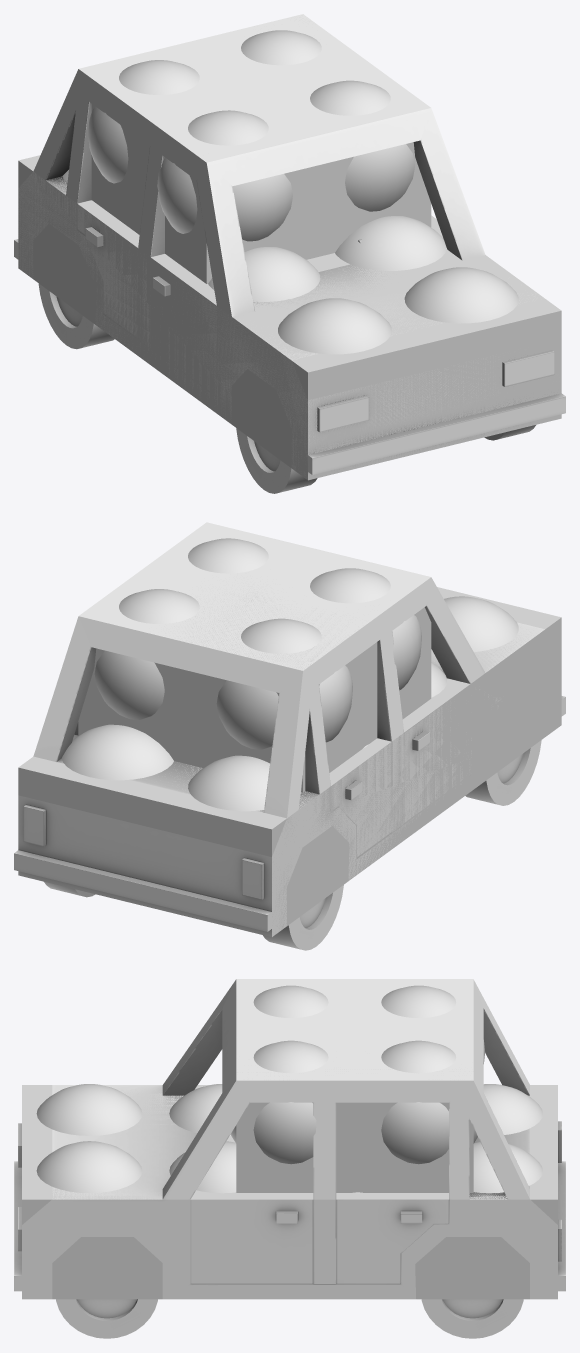
The model's file is car.glb.
3 renders of one model, top to bottom at view 1: azimuth 30°, elevation 25°; view 2: azimuth 150°, elevation 25°; view 3: azimuth 270°, elevation 25°, orthographic. The views are drawn at different scales.
Visible parts, largest first — view 1: body, Cube.006, Cube.002, Sphere.002, Sphere.001, Sphere, Sphere.003, Sphere.010, Sphere.007, door_4, Sphere.011, Sphere.004 (+3 smaller); view 2: body, Cube.006, Cube.002, Sphere.007, Sphere.004, Sphere.005, door_4, Sphere.002, Sphere.006, door_2, Sphere.003, Sphere.001 (+2 smaller); view 3: body, Cube.006, Cube.002, door_1, door_3, Sphere.004, Sphere.001, Sphere, Sphere.003, Cylinder.001, wheel_fl, Sphere.006 (+5 smaller).
Boxes of the visible parts, bbox=[...] form: body: bbox=[14, 14, 565, 477]; Cube.006: bbox=[18, 155, 561, 480]; Cube.002: bbox=[91, 14, 431, 283]; Sphere.002: bbox=[157, 110, 292, 241]; Sphere.001: bbox=[310, 80, 414, 211]; Sphere: bbox=[404, 267, 518, 368]; Sphere.003: bbox=[278, 298, 391, 399]; Sphere.010: bbox=[335, 216, 446, 270]; Sphere.007: bbox=[88, 60, 199, 183]; door_4: bbox=[77, 204, 138, 337]; Sphere.011: bbox=[208, 247, 320, 301]; Sphere.004: bbox=[241, 30, 321, 65]; body: bbox=[14, 522, 565, 937]; Cube.006: bbox=[18, 587, 561, 931]; Cube.002: bbox=[78, 578, 431, 792]; Sphere.007: bbox=[216, 618, 352, 749]; Sphere.004: bbox=[94, 589, 199, 719]; Sphere.005: bbox=[61, 724, 173, 780]; door_4: bbox=[331, 742, 391, 857]; Sphere.002: bbox=[310, 568, 421, 690]; Sphere.006: bbox=[188, 755, 269, 811]; door_2: bbox=[404, 699, 470, 823]; Sphere.003: bbox=[444, 596, 518, 651]; Sphere.001: bbox=[188, 538, 268, 573]; body: bbox=[14, 979, 565, 1299]; Cube.006: bbox=[22, 1085, 557, 1299]; Cube.002: bbox=[236, 1069, 473, 1192]; door_1: bbox=[190, 1199, 313, 1283]; door_3: bbox=[336, 1199, 448, 1283]; Sphere.004: bbox=[381, 1040, 477, 1164]; Sphere.001: bbox=[230, 1040, 328, 1164]; Sphere: bbox=[36, 1141, 142, 1193]; Sphere.003: bbox=[36, 1084, 142, 1135]; Cylinder.001: bbox=[421, 1299, 523, 1338]; wheel_fl: bbox=[56, 1299, 157, 1338]; Sphere.006: bbox=[483, 1084, 542, 1134].
Size of the model in its own units: 1.28 by 1.31 by 2.49.
2 materials, 2 textured.
